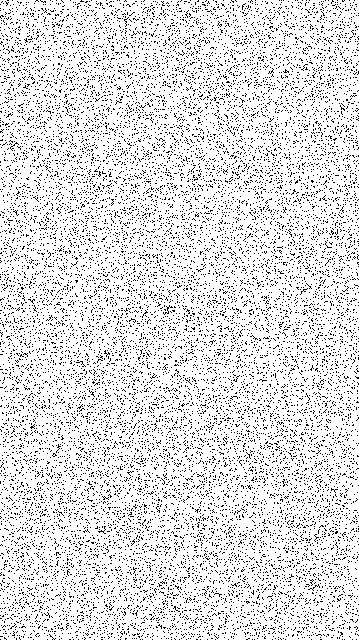pot: (114, 146, 284, 322)
